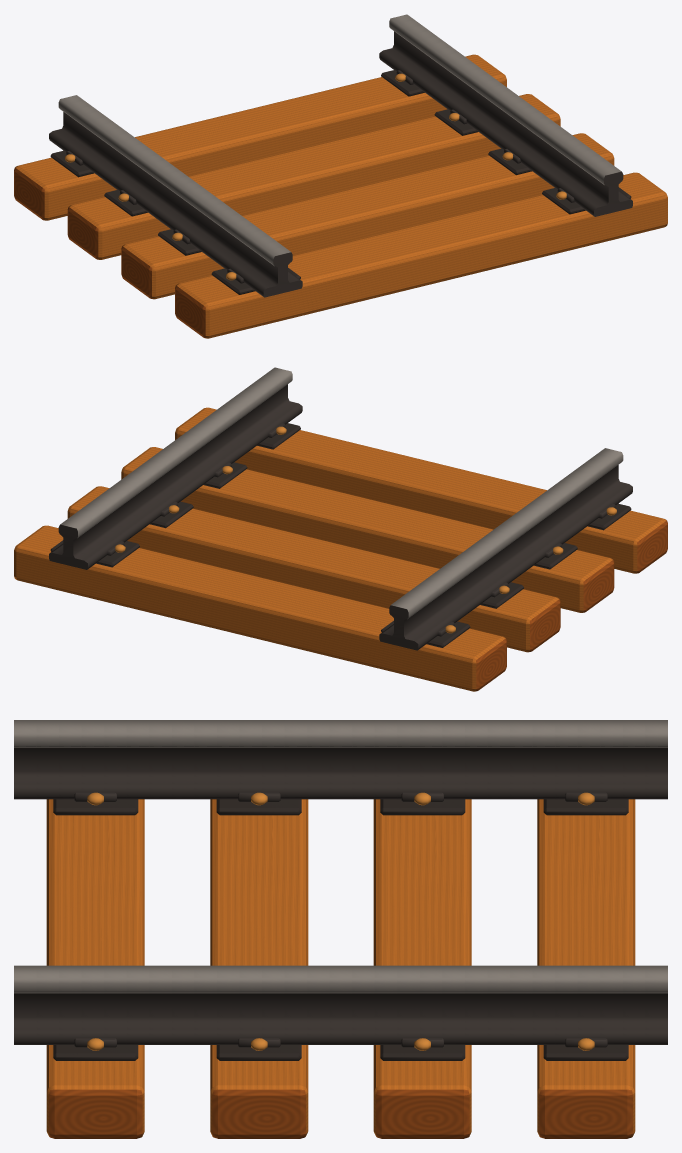
File: Environment_Rail_Straight_2m_001.glb
The picture shows the model from 3 angles, top to bottom: view 1: azimuth 30°, elevation 25°; view 2: azimuth 150°, elevation 25°; view 3: azimuth 270°, elevation 25°; orthographic projection. The views are drawn at different scales.
Visible parts, largest first — view 1: Straight_2m_Static; view 2: Straight_2m_Static; view 3: Straight_2m_Static.
Boxes of the visible parts, x1,y1,x2,y2 form: Straight_2m_Static: [14, 14, 667, 338]; Straight_2m_Static: [14, 367, 667, 691]; Straight_2m_Static: [14, 720, 667, 1138].
Size of the model in its own units: 2.5 by 0.405 by 2.
Materials: 1 (1 with a texture image).
